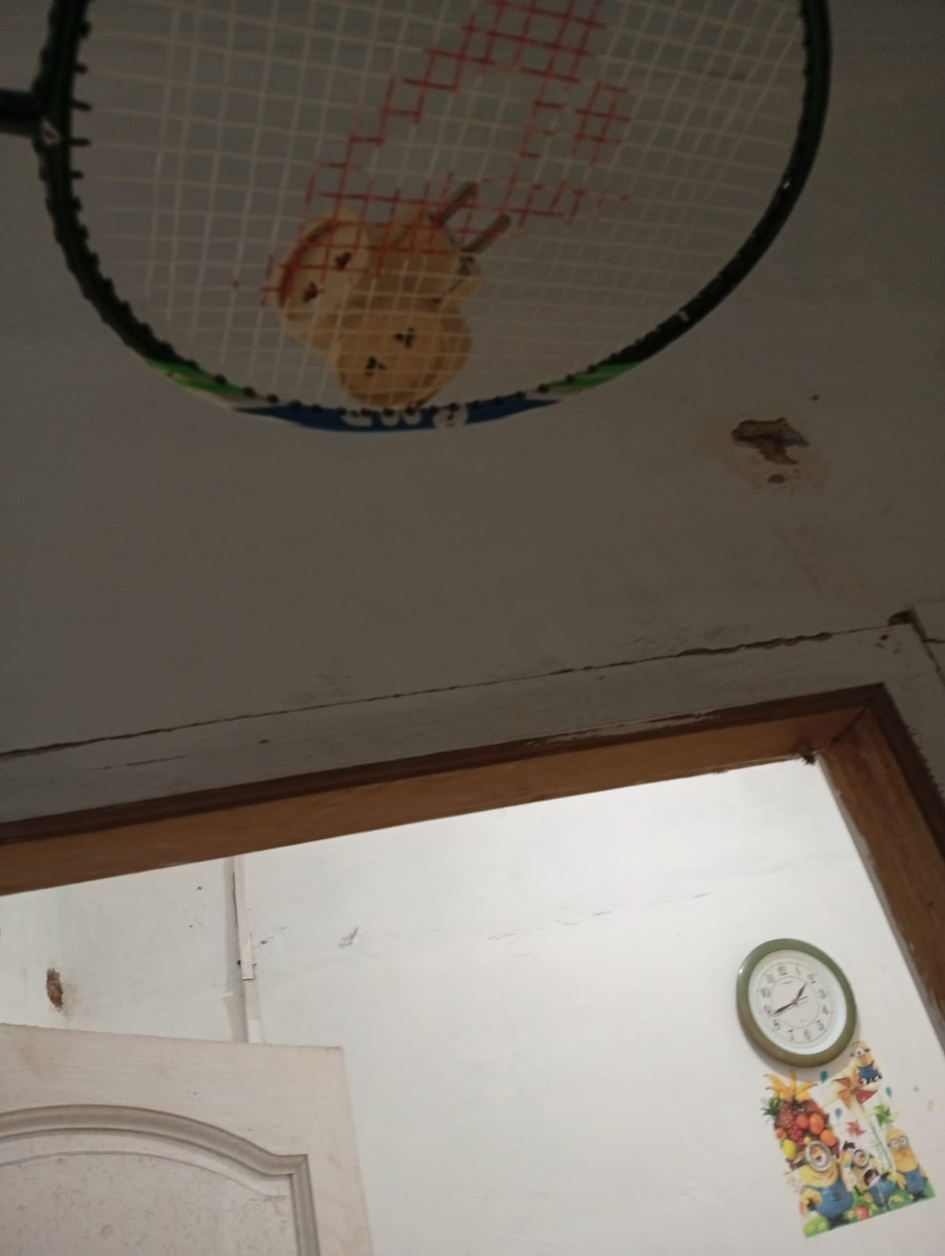Colokan: (370, 95, 638, 385)
